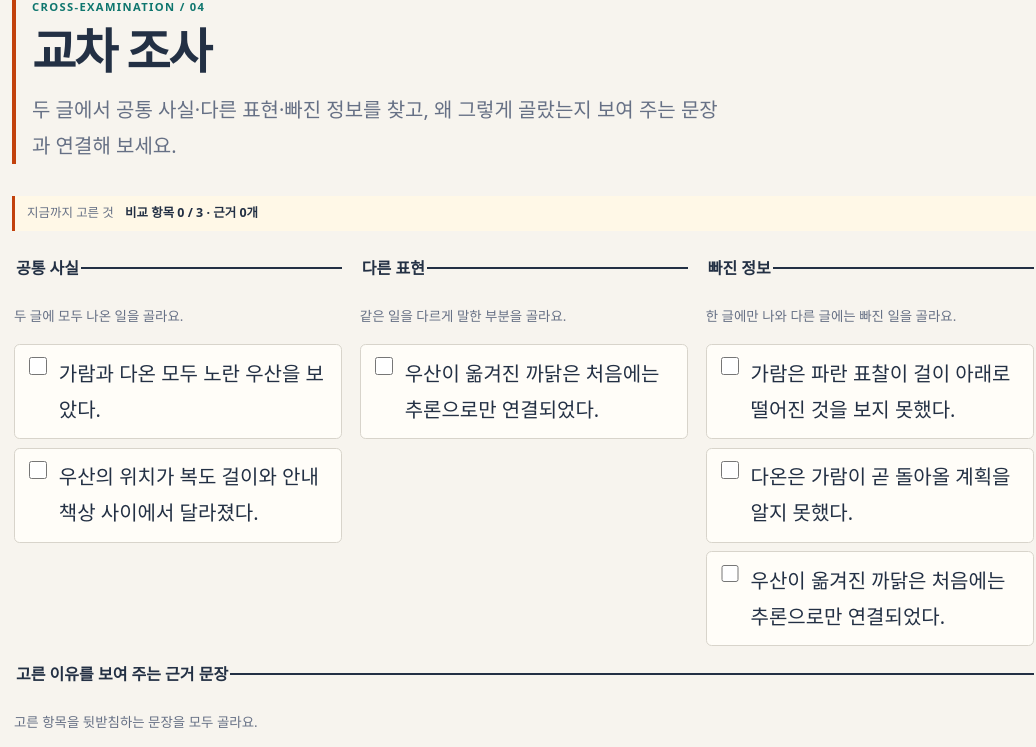
Test case: CrossExamination › shows comparison and evidence progress before the completion gate
Expected: the text "두 글에서 공통 사실·다른 표현·빠진 정보를 찾고, 왜 그렇게 골랐는지 보여 주는 문장과 연결해 보세요." is shown, [32, 92, 732, 164]
Expected: the text "두 글에 모두 나온 일을 골라요." is shown, [14, 307, 183, 325]
Step 1. Click the checkbox labelled "가람과 다온 모두 노란 우산을 보았다." → x=38, y=366, box [29, 358, 47, 375]
(page scrolled)
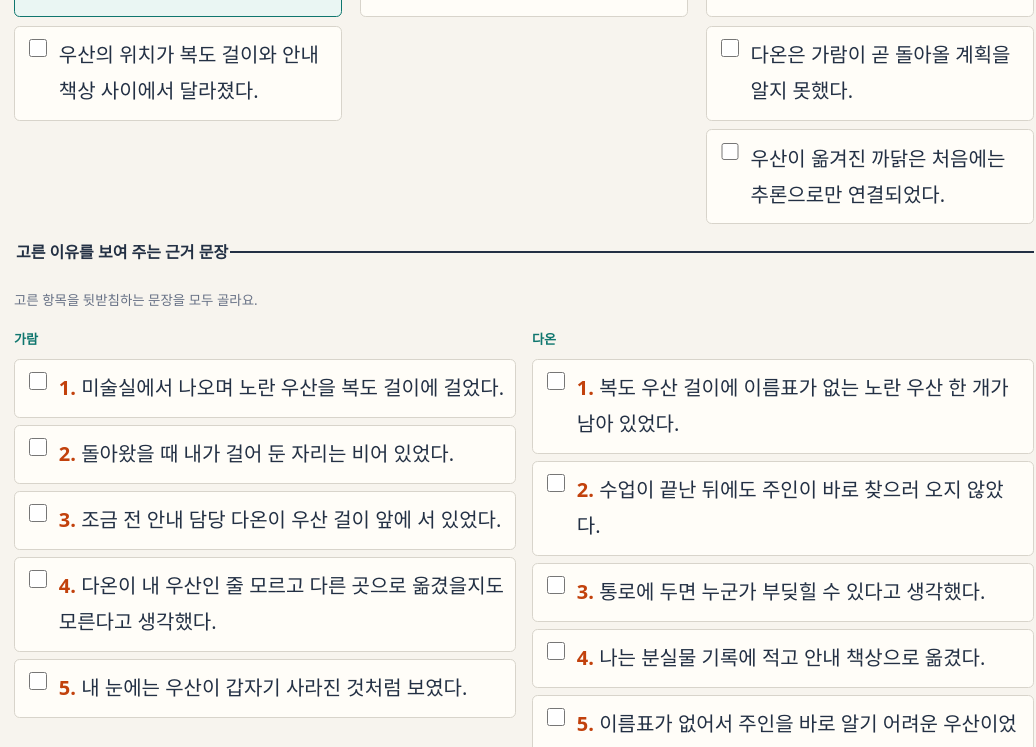
Step 2. Click the checkbox named "근거 문장" → x=38, y=381, box [29, 372, 47, 390]
(page scrolled)
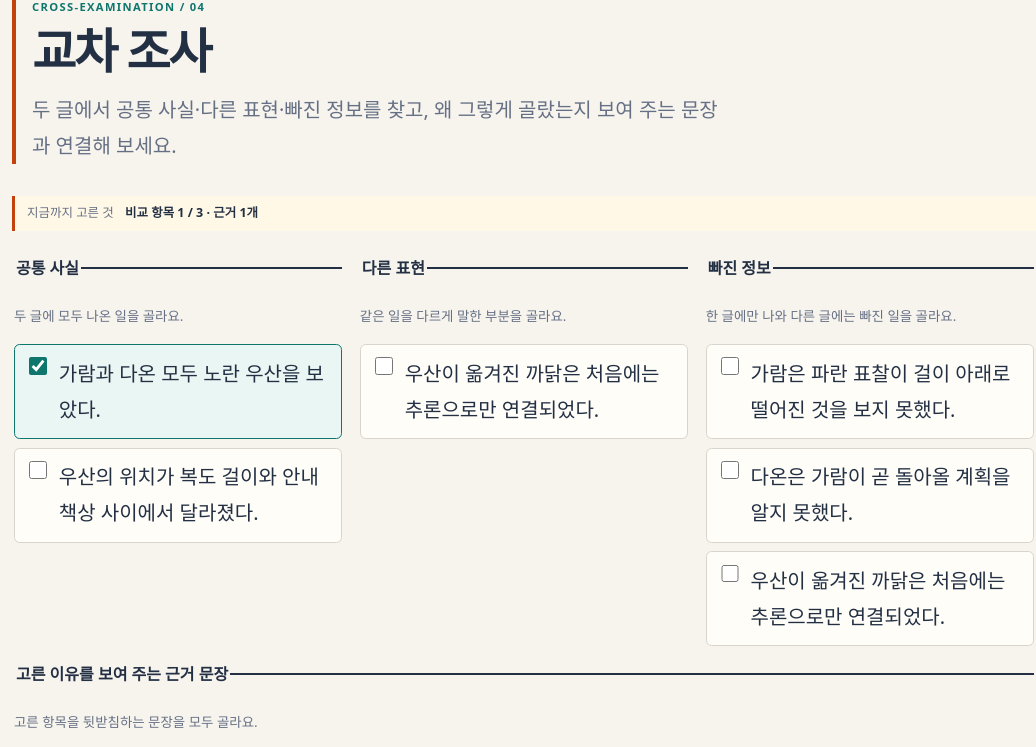
Result: the message named "비교 진행률" shows "비교 항목 1 / 3 · 근거 1개" at [125, 204, 258, 221]
